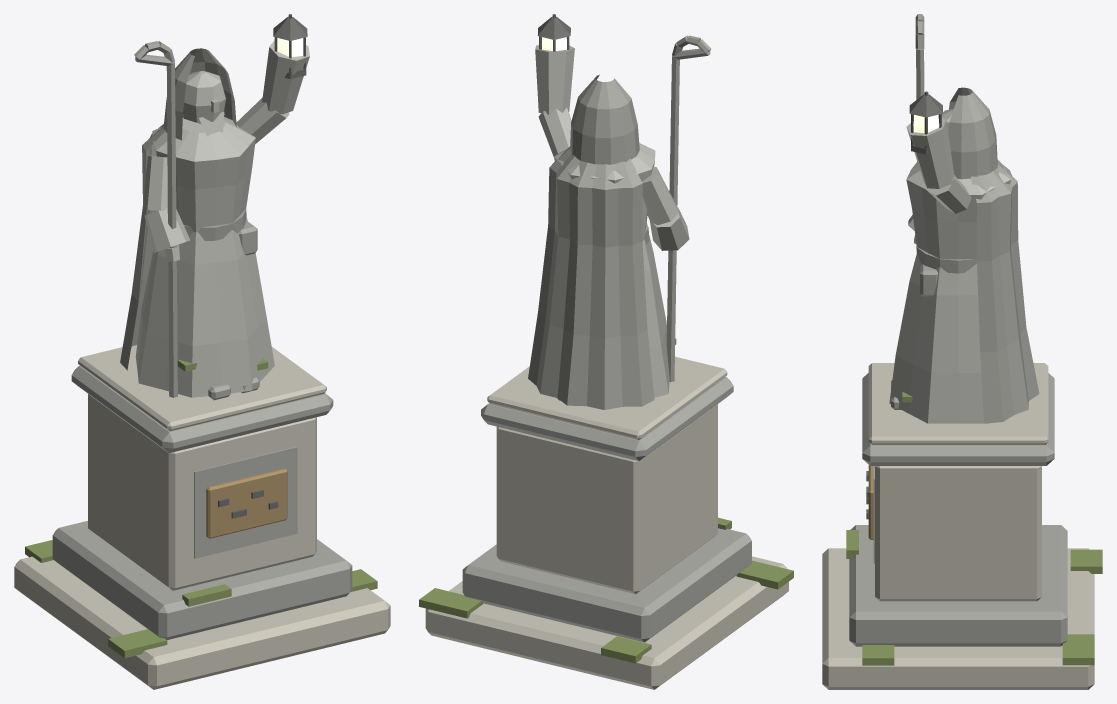
Rendered from lantern_keeper_statue_v1.glb.
The picture shows the model from 3 angles, left to right: view 1: azimuth 30°, elevation 25°; view 2: azimuth 150°, elevation 25°; view 3: azimuth 270°, elevation 25°; orthographic projection. The views are drawn at different scales.
Visible parts, largest first — view 1: Plinth, Keeper; view 2: Plinth, Keeper; view 3: Plinth, Keeper.
Part boxes in pixels (bbox=[...]): Plinth: bbox=[14, 345, 390, 689]; Keeper: bbox=[120, 14, 309, 400]; Plinth: bbox=[419, 356, 793, 689]; Keeper: bbox=[528, 14, 711, 409]; Plinth: bbox=[822, 363, 1102, 689]; Keeper: bbox=[889, 14, 1039, 423].
Size of the model in its own units: 1.83 by 4.03 by 1.75.
